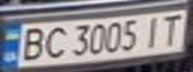0: (87, 20, 109, 55), (106, 18, 127, 53)
3: (69, 21, 90, 57)
5: (121, 17, 145, 52)
B: (15, 25, 48, 63)
C: (39, 24, 69, 60)
I: (139, 14, 166, 48)
T: (154, 11, 187, 47)
